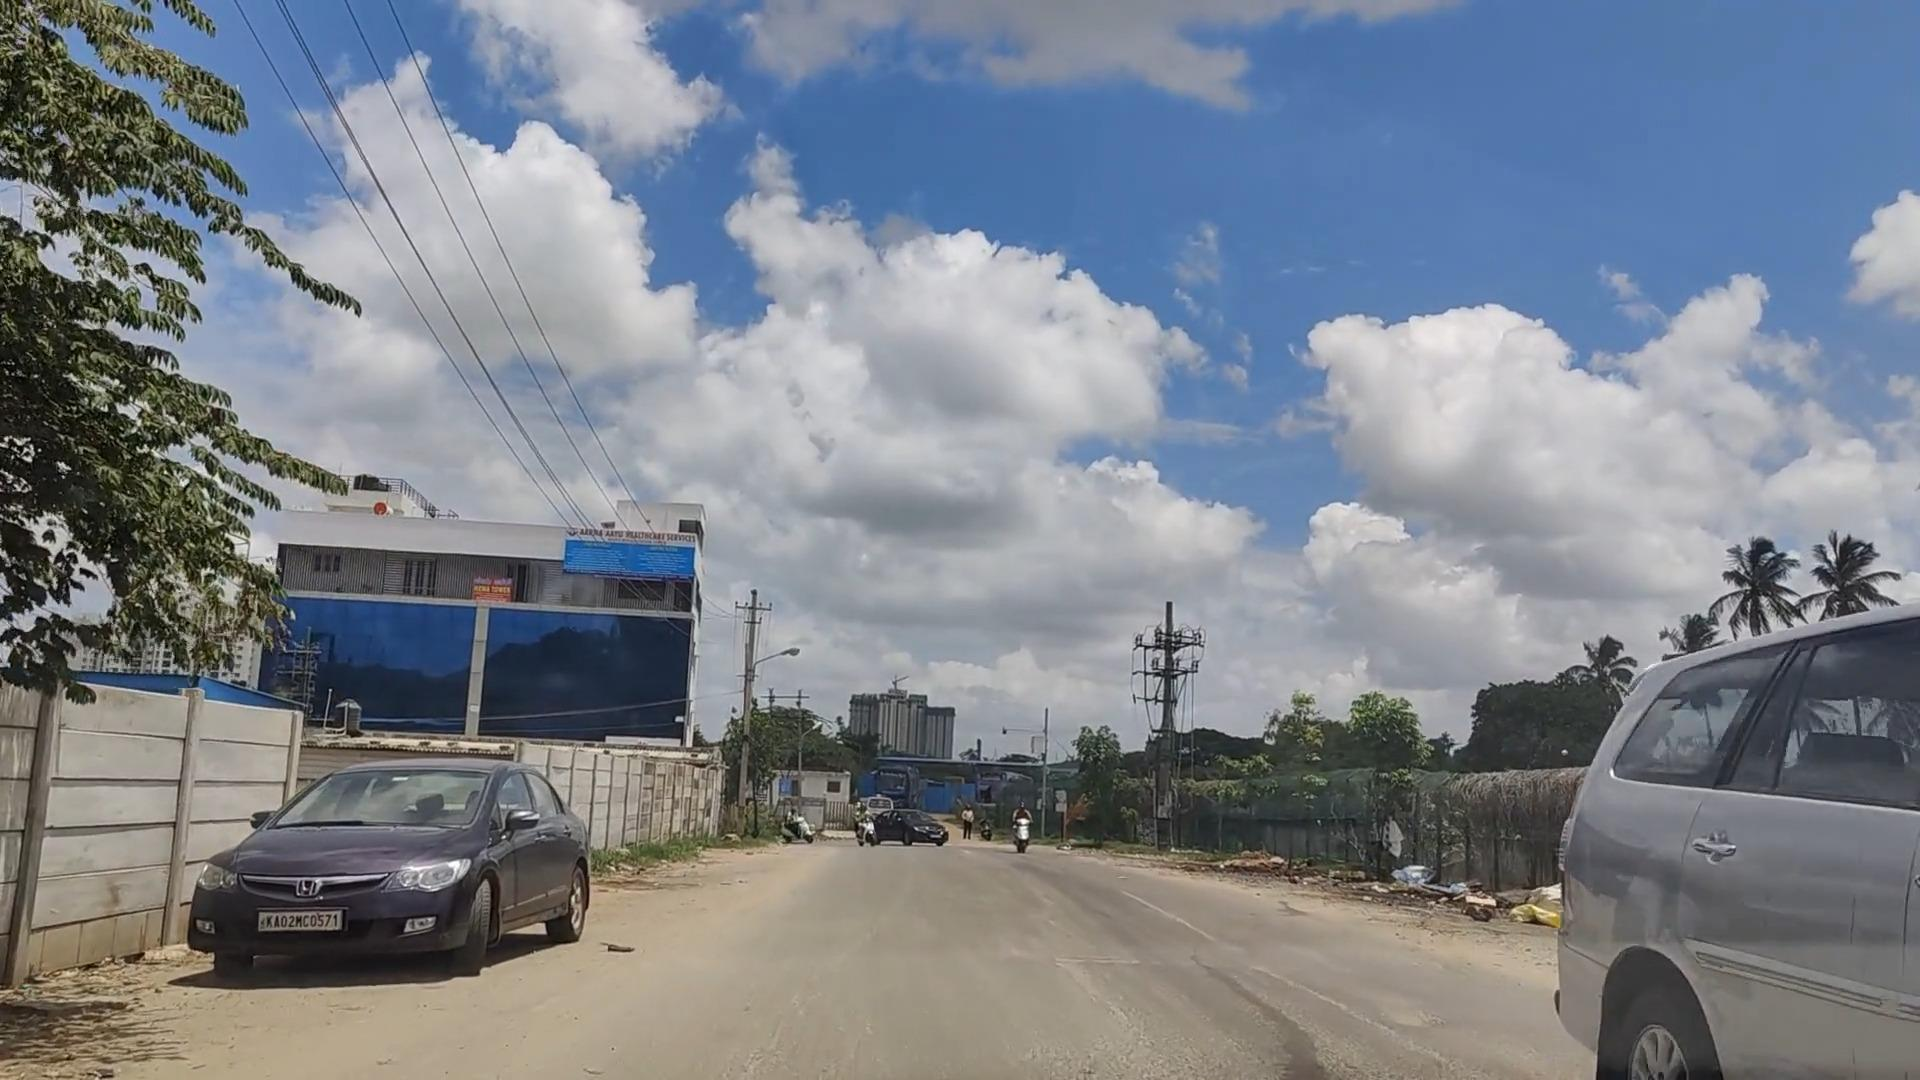LMV: (170, 717, 601, 994)
RoadDamages: (1007, 940, 1453, 1080)
UnsurfacedRoad: (83, 957, 587, 1080), (725, 956, 977, 1080)
